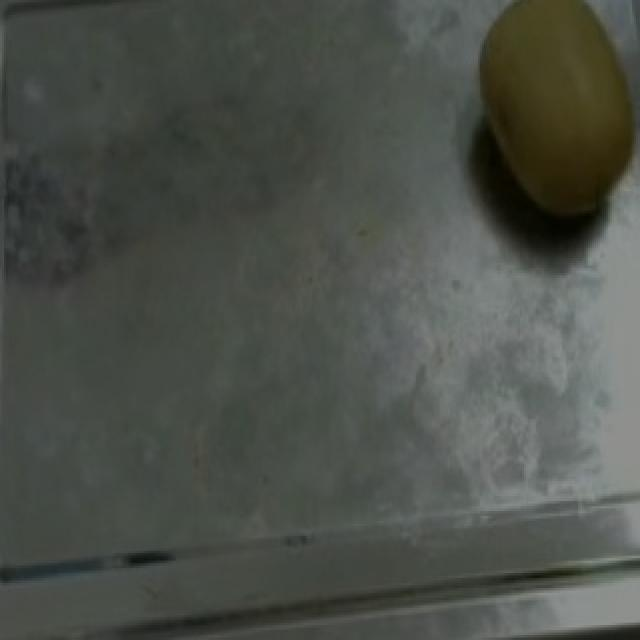Fruit: (442, 0, 640, 248)
